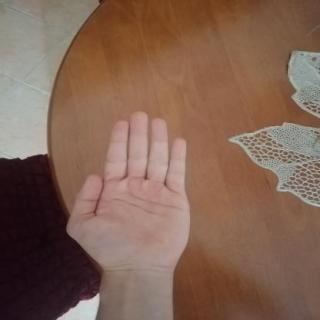SEEN: (52, 100, 205, 284)
